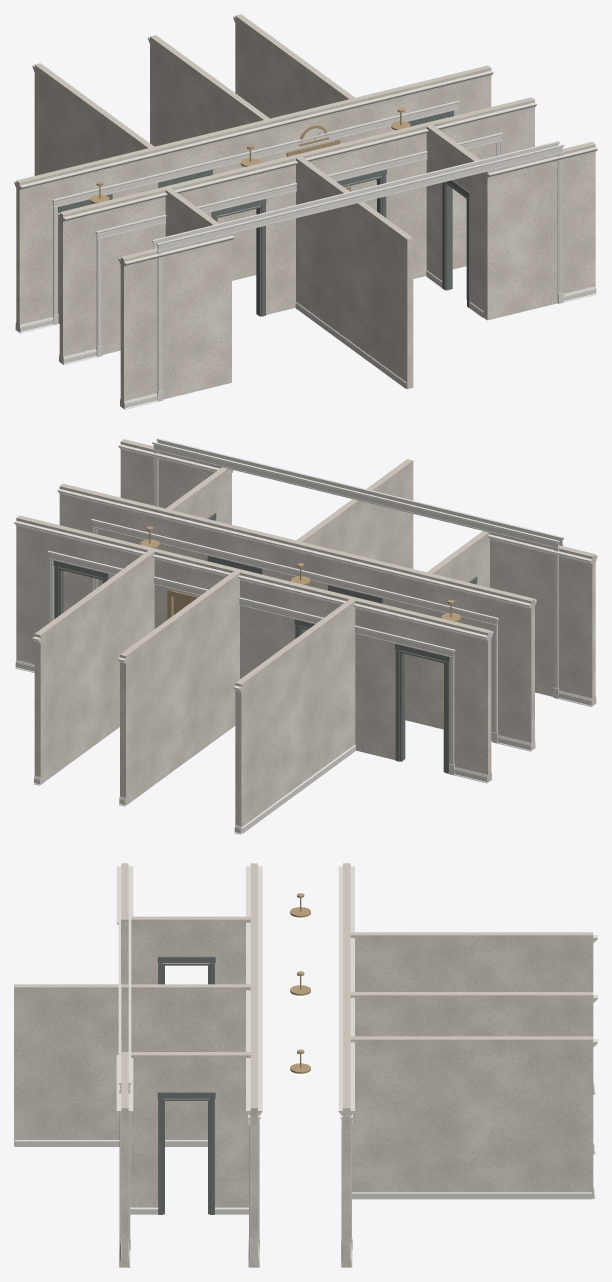
File: plan_up.glb
The picture shows the model from 3 angles, top to bottom: view 1: azimuth 30°, elevation 25°; view 2: azimuth 150°, elevation 25°; view 3: azimuth 270°, elevation 25°; orthographic projection. The views are drawn at different scales.
Parts seen in each view (by area): view 1: plan_up_plaster, molduras, plan_up_frame, plan_up_bronze, plan_up_trim; view 2: plan_up_plaster, molduras, plan_up_frame, plan_up_bronze, plan_up_trim; view 3: plan_up_plaster, molduras, plan_up_trim, plan_up_frame, plan_up_bronze.
Boxes of the visible parts, left/top/right/bottom form: plan_up_plaster: left=16, top=14, right=595, bottom=408; molduras: left=14, top=16, right=597, bottom=409; plan_up_frame: left=58, top=110, right=470, bottom=323; plan_up_bronze: left=90, top=108, right=410, bottom=203; plan_up_trim: left=295, top=270, right=483, bottom=388; plan_up_plaster: left=16, top=439, right=595, bottom=833; molduras: left=14, top=438, right=597, bottom=834; plan_up_frame: left=53, top=513, right=477, bottom=773; plan_up_bronze: left=140, top=526, right=460, bottom=621; plan_up_trim: left=242, top=745, right=355, bottom=833; plan_up_plaster: left=14, top=863, right=593, bottom=1267; molduras: left=116, top=866, right=597, bottom=1267; plan_up_trim: left=15, top=1140, right=592, bottom=1214; plan_up_frame: left=157, top=956, right=215, bottom=1214; plan_up_bronze: left=290, top=893, right=310, bottom=1073.
Size of the model in its own units: 9.4 by 3 by 9.47.
8 materials, 1 textured.
